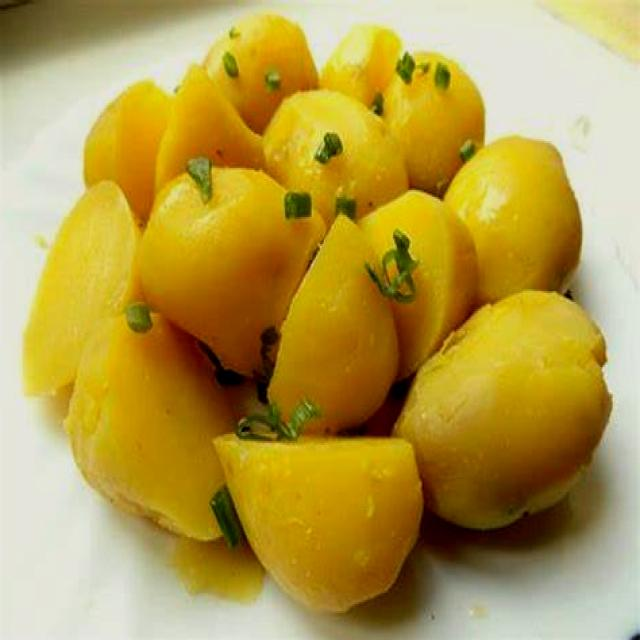kentang rebus: (392, 289, 613, 533), (63, 300, 262, 551), (136, 166, 327, 380), (212, 432, 424, 616), (266, 210, 401, 439), (443, 136, 583, 307)
